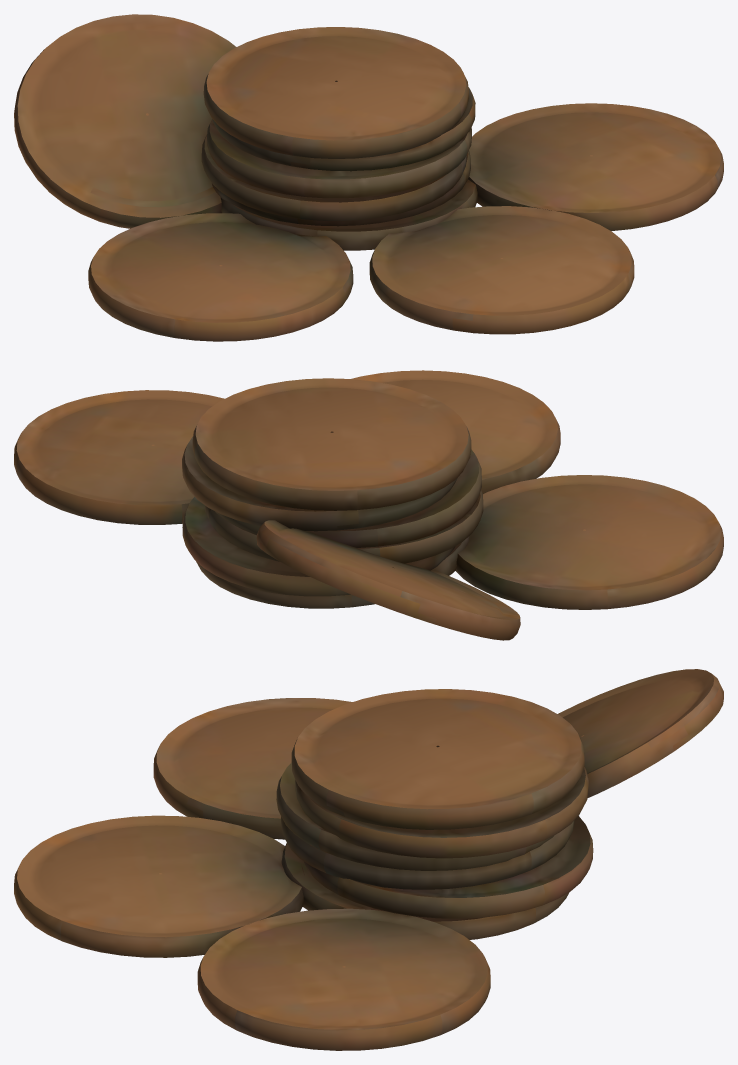
The model's file is decanummium.glb.
3 views of the same model, one above another, from view 1: azimuth 30°, elevation 25°; view 2: azimuth 150°, elevation 25°; view 3: azimuth 270°, elevation 25° (orthographic). The views are drawn at different scales.
Parts seen in each view (by area): view 1: decanummium; view 2: decanummium; view 3: decanummium.
Part boxes in pixels (left/top/right/bottom): decanummium: left=14, top=14, right=723, bottom=341; decanummium: left=14, top=370, right=723, bottom=640; decanummium: left=14, top=669, right=723, bottom=1050.
Bounding box in the file's own units: 0.0486 × 0.0092 × 0.0435.
Materials: 1 (1 with a texture image).
